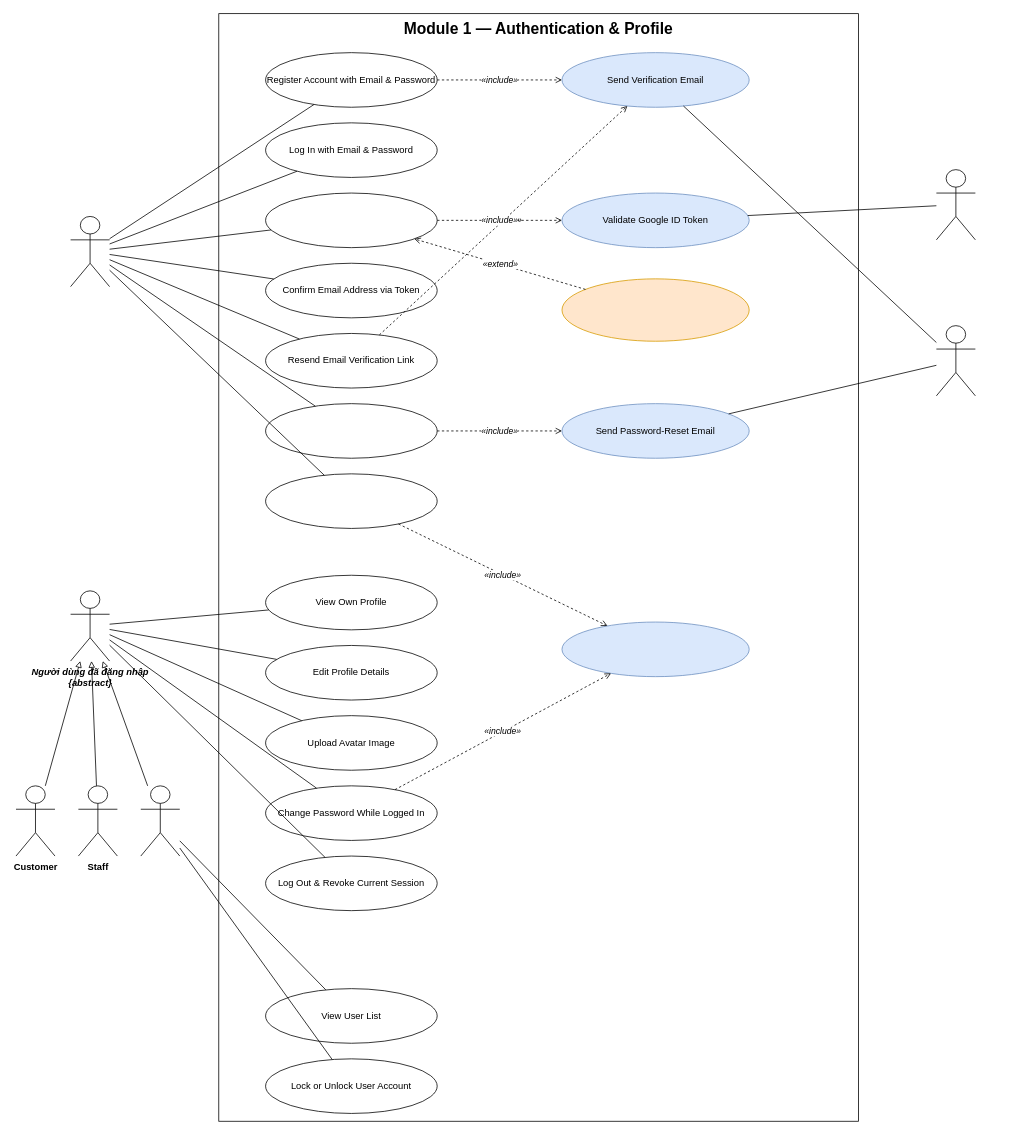
Some shapes in this 1023 by 1135 pixel diagram are drawn without their labels. The shapes that lost their labels are listed below. From the top down, each one's centre as x and y in pixels, then its label:
At pixel 351 220: "Log In with Google (OAuth)".
At pixel 955 204: "Google Identity Provider".
At pixel 90 251: "Guest".
At pixel 655 309: "Auto-Provision Account on First Google Login".
At pixel 955 360: "Email / SMTP Service".
At pixel 351 430: "Request Password-Reset Link".
At pixel 351 500: "Reset Password via Token".
At pixel 655 649: "Revoke Active Sessions".
At pixel 160 820: "Admin".
